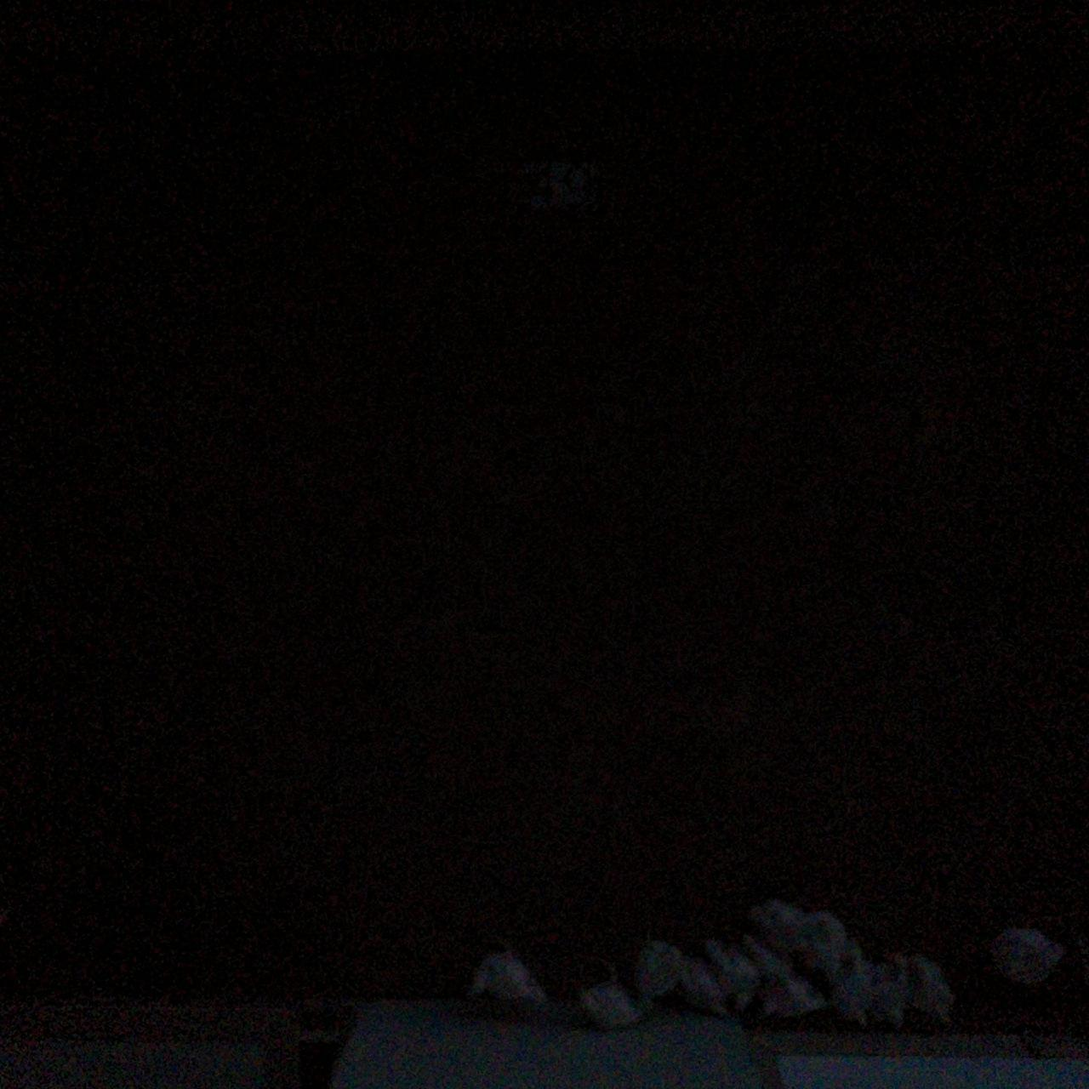chicken: (455, 940, 548, 1014), (578, 959, 649, 1034), (696, 936, 764, 1014), (981, 924, 1056, 992), (889, 943, 952, 1023), (798, 906, 862, 979), (747, 883, 807, 957), (751, 961, 820, 1025), (669, 950, 728, 1023), (862, 956, 909, 1031), (628, 936, 685, 996), (733, 922, 788, 978), (825, 973, 872, 1036)
